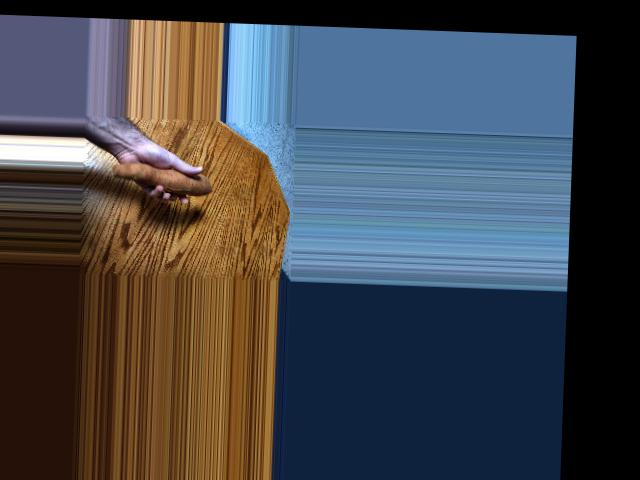sweet_potato: (102, 152, 215, 198)
